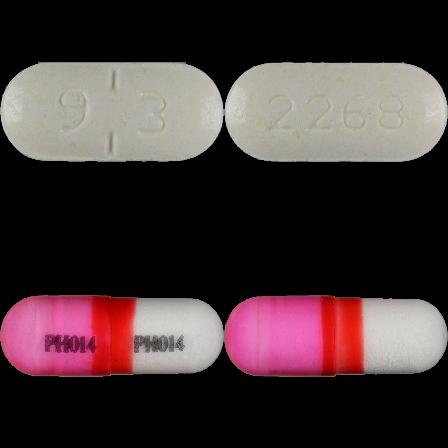10544-165: (0, 0, 224, 224)
